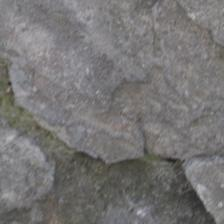Crack: (32, 54, 117, 164), (91, 27, 198, 93)
